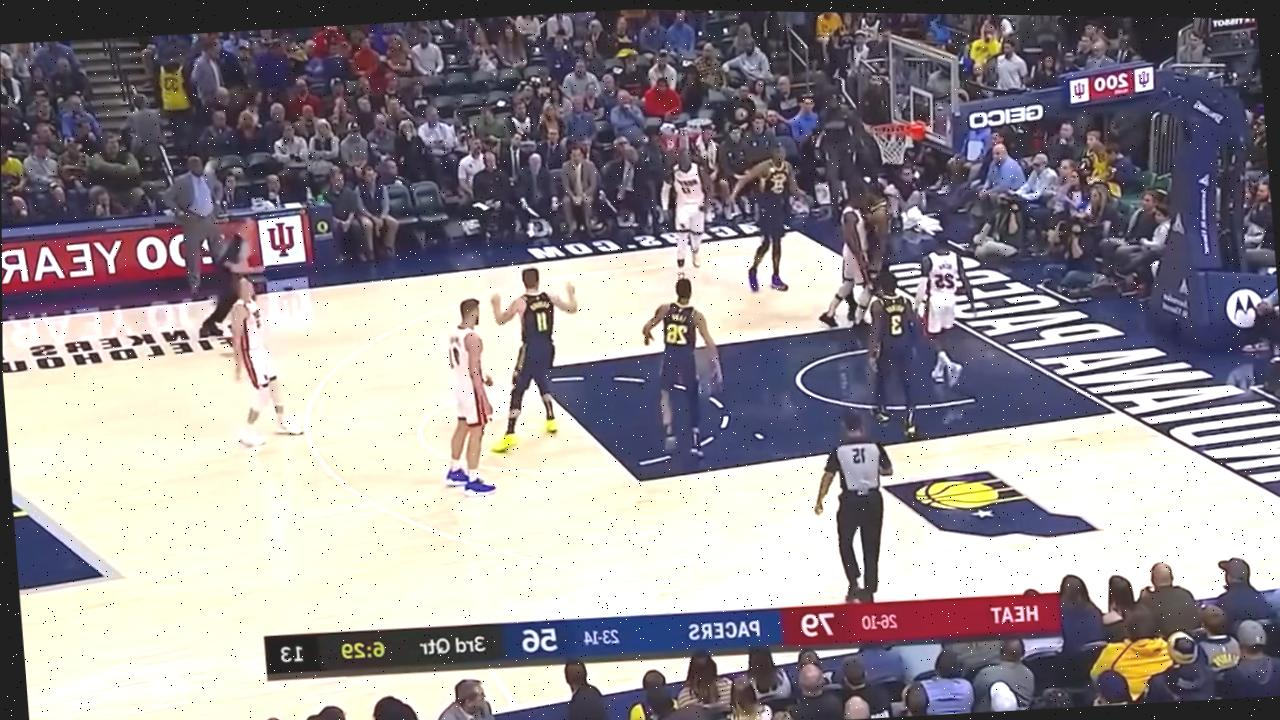foul: (808, 174, 924, 332)
